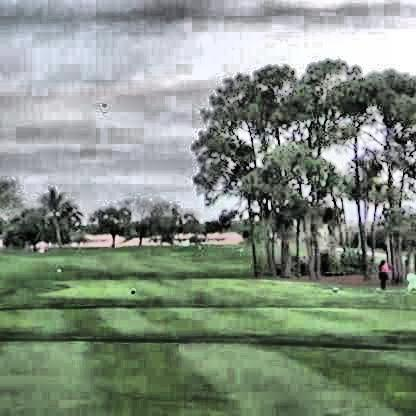golfball: (99, 98, 103, 104)
